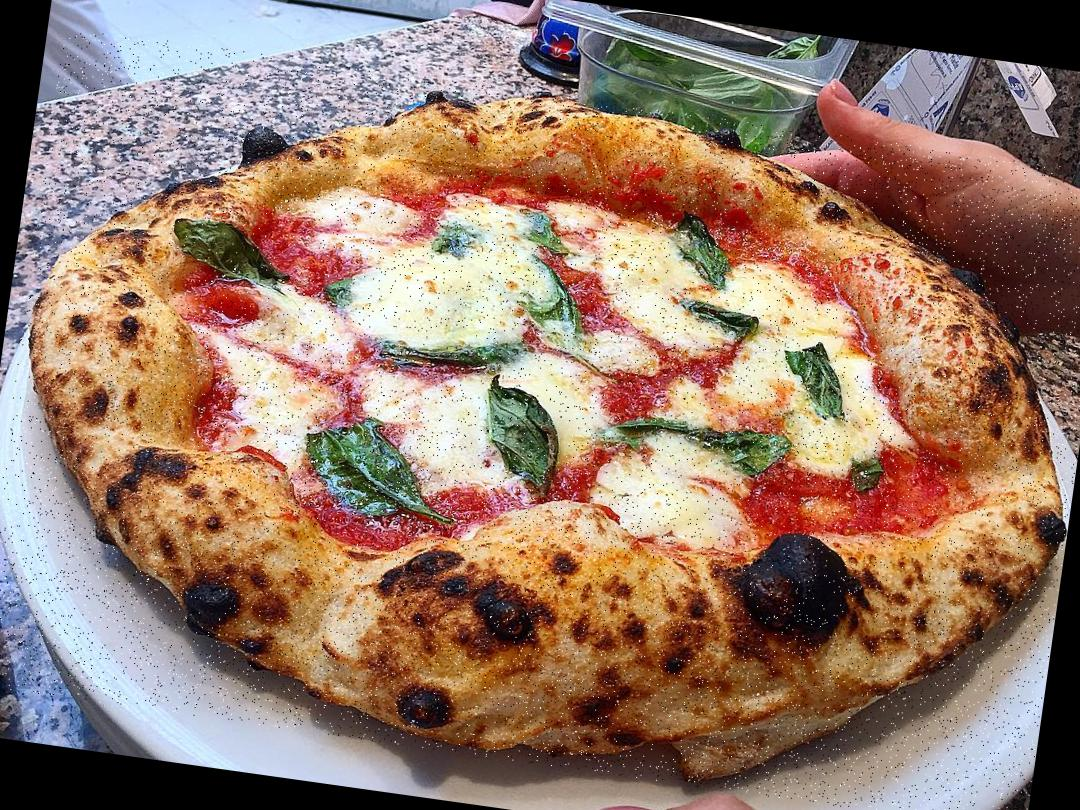Basil: (286, 404, 472, 536), (594, 399, 798, 484), (469, 368, 577, 500), (166, 217, 304, 305), (356, 322, 523, 388), (492, 250, 603, 348), (774, 332, 870, 436), (650, 207, 749, 297), (664, 286, 770, 350), (502, 200, 595, 261), (413, 211, 495, 268), (844, 448, 893, 503), (321, 262, 366, 313)
Pizza: (0, 27, 1080, 810)
